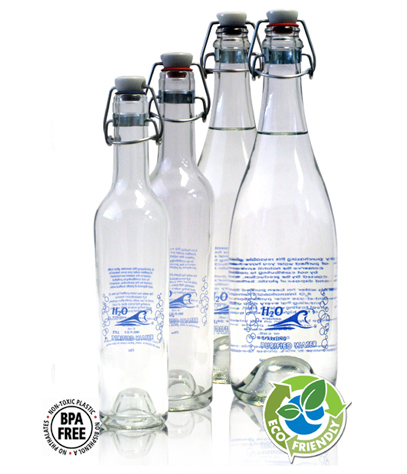glass of water: (98, 185, 211, 420), (244, 106, 334, 381)
